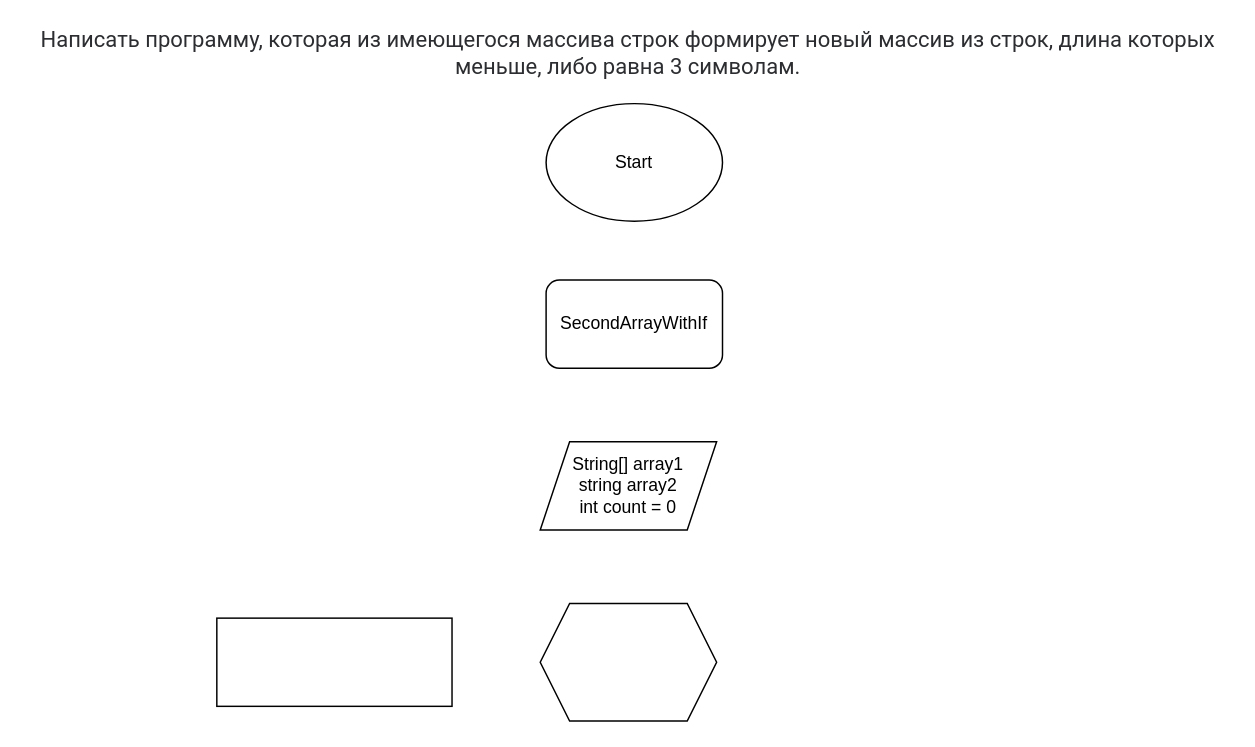
The diagram is 1255 pixels wide and 747 high, and some of its shapes have lost their labels. Here are the shapes that lost their labels. From the top down, the box of each, then its label:
(215, 617, 452, 706): array2[count] = array1[i]
(539, 602, 717, 721): for (int i =0; i <array1.lenght; i++)
